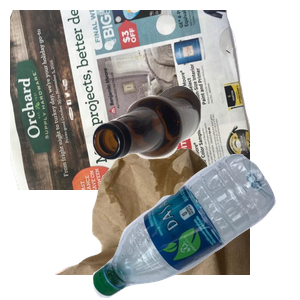glass: (90, 83, 300, 235)
paper: (10, 10, 250, 190)
plastic: (90, 154, 300, 300)
trash: (52, 120, 292, 300)
